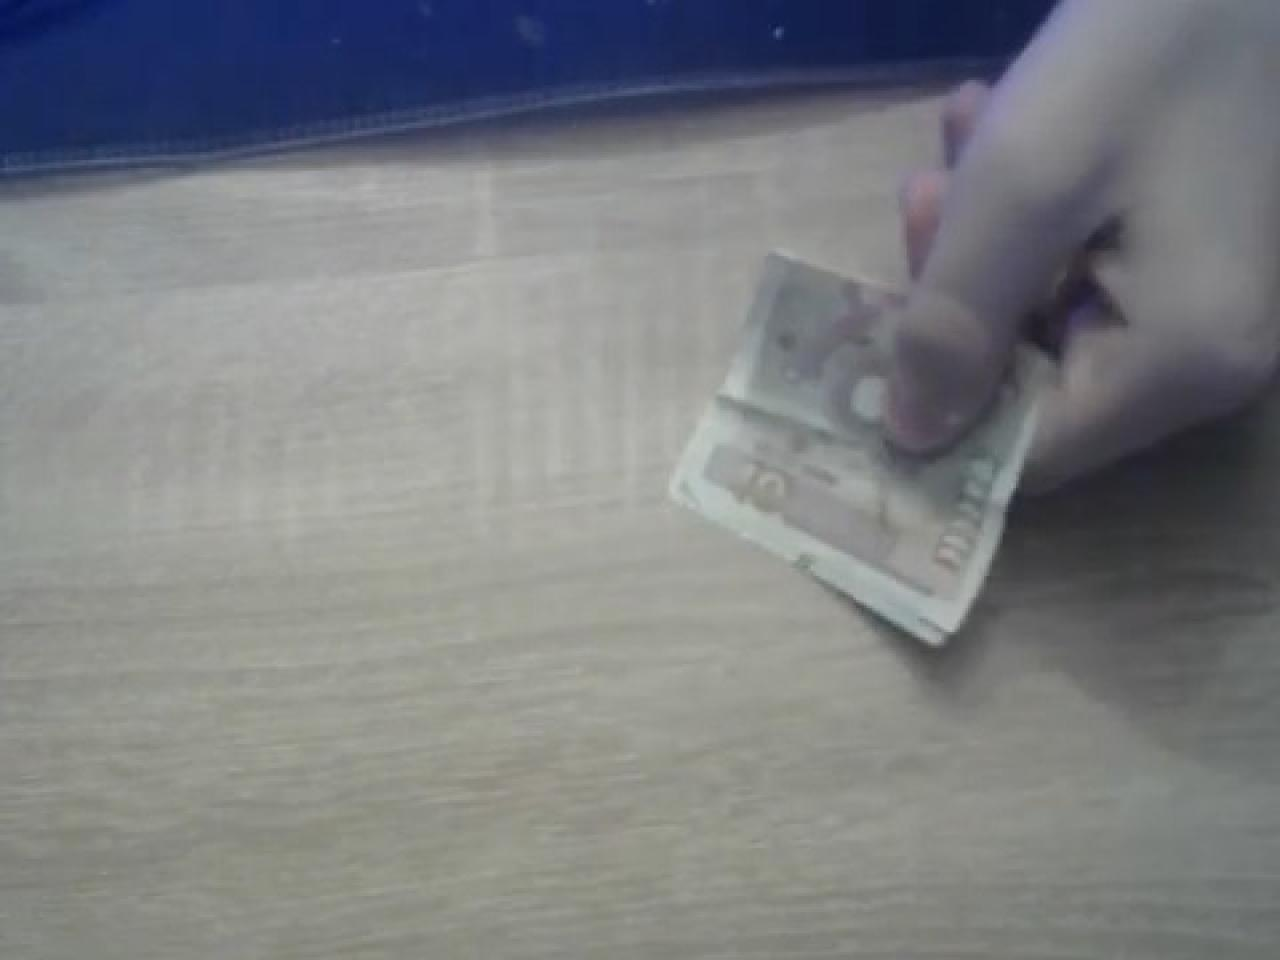10leva: (669, 245, 1056, 650)
